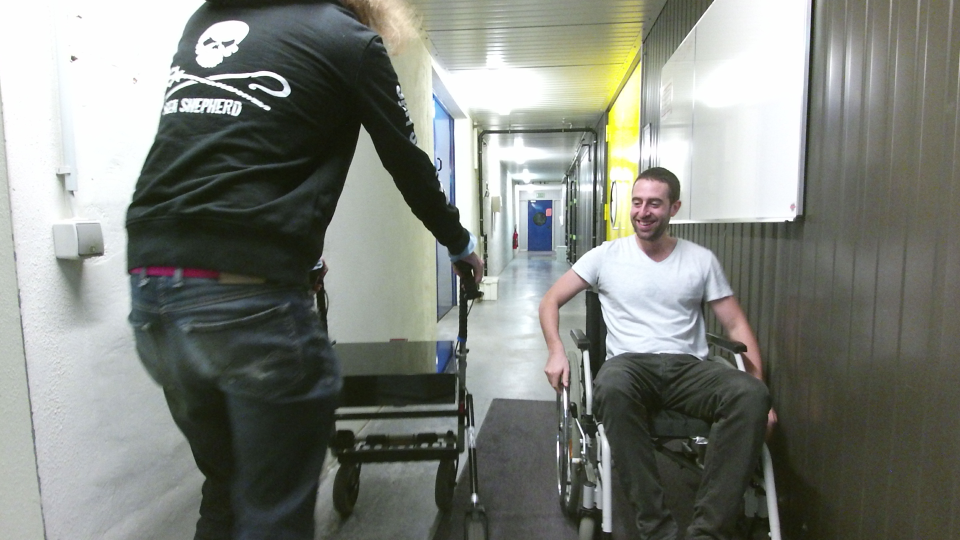wheelchair: (522, 164, 786, 540)
